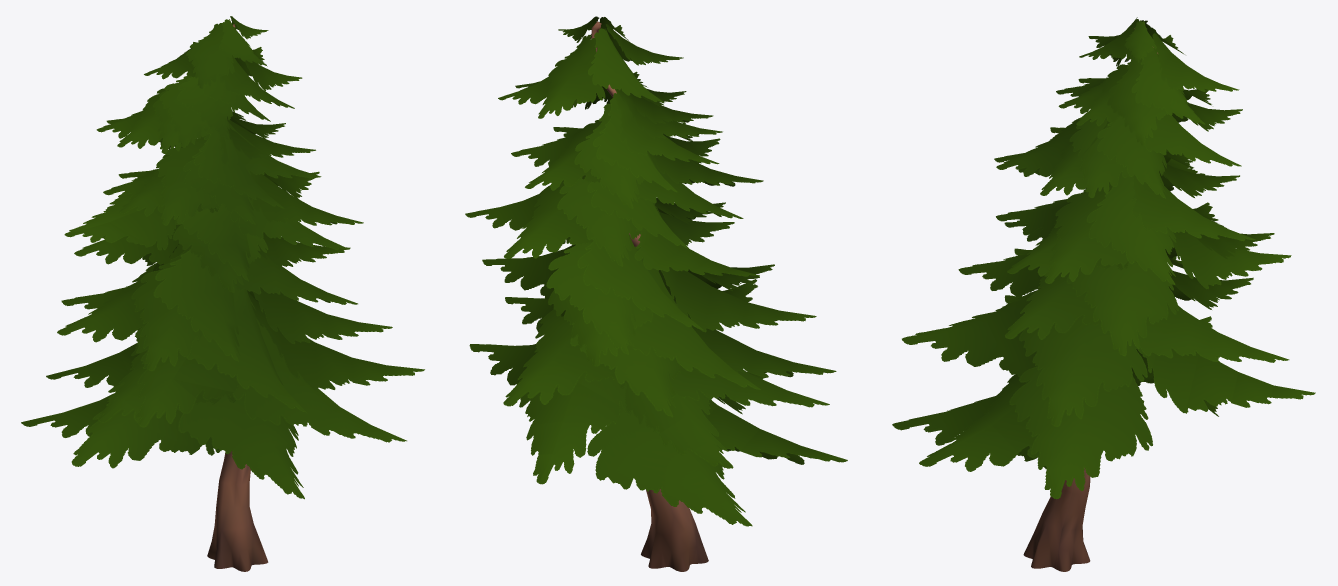
The model's file is kiefer_c.glb.
3 renders of one model, left to right at view 1: azimuth 30°, elevation 25°; view 2: azimuth 150°, elevation 25°; view 3: azimuth 270°, elevation 25°, orthographic. The views are drawn at different scales.
Parts seen in each view (by area): view 1: baum; view 2: baum; view 3: baum.
Boxes of the visible parts, x1,y1,x2,y2 form: baum: (21,16,424,571); baum: (465,16,847,571); baum: (892,17,1315,571).
Size of the model in its own units: 6.42 by 8.72 by 6.22.
Materials: 2 (1 with a texture image).
